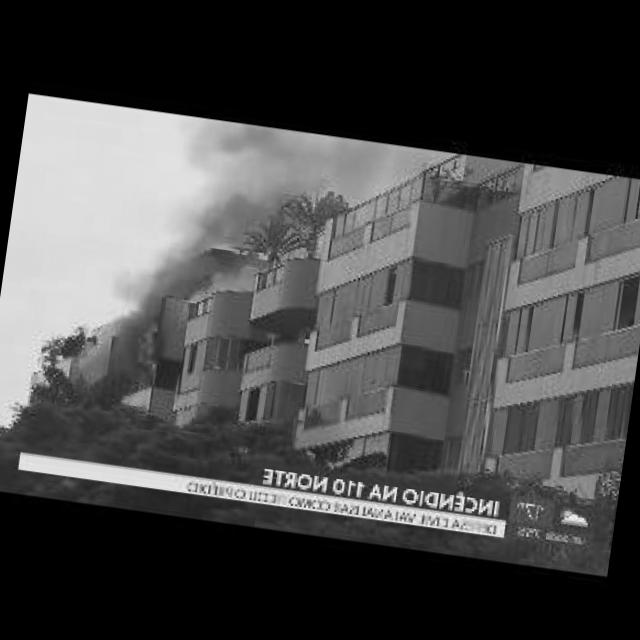fire: (133, 318, 165, 382)
smoke: (98, 102, 350, 346)
